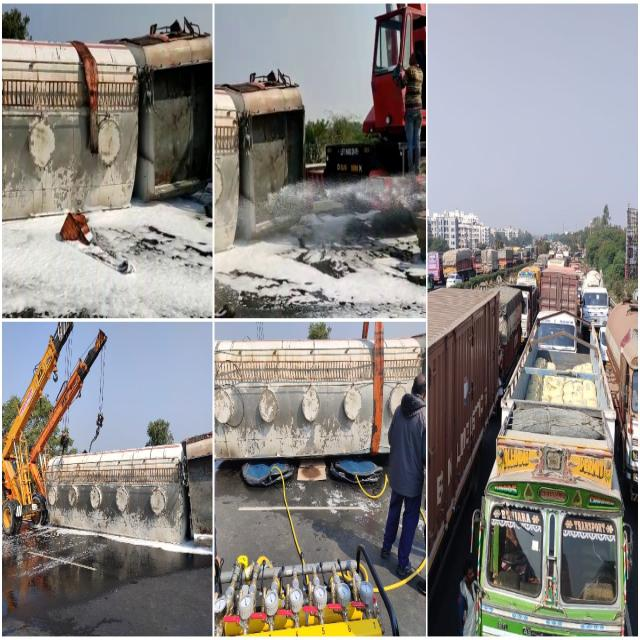accident: (214, 4, 425, 251), (46, 433, 212, 543)
motorcycle: (605, 300, 640, 492)
truck: (471, 320, 630, 636), (428, 289, 499, 586), (605, 300, 639, 494), (581, 269, 610, 359), (516, 267, 540, 341), (442, 249, 474, 280)
